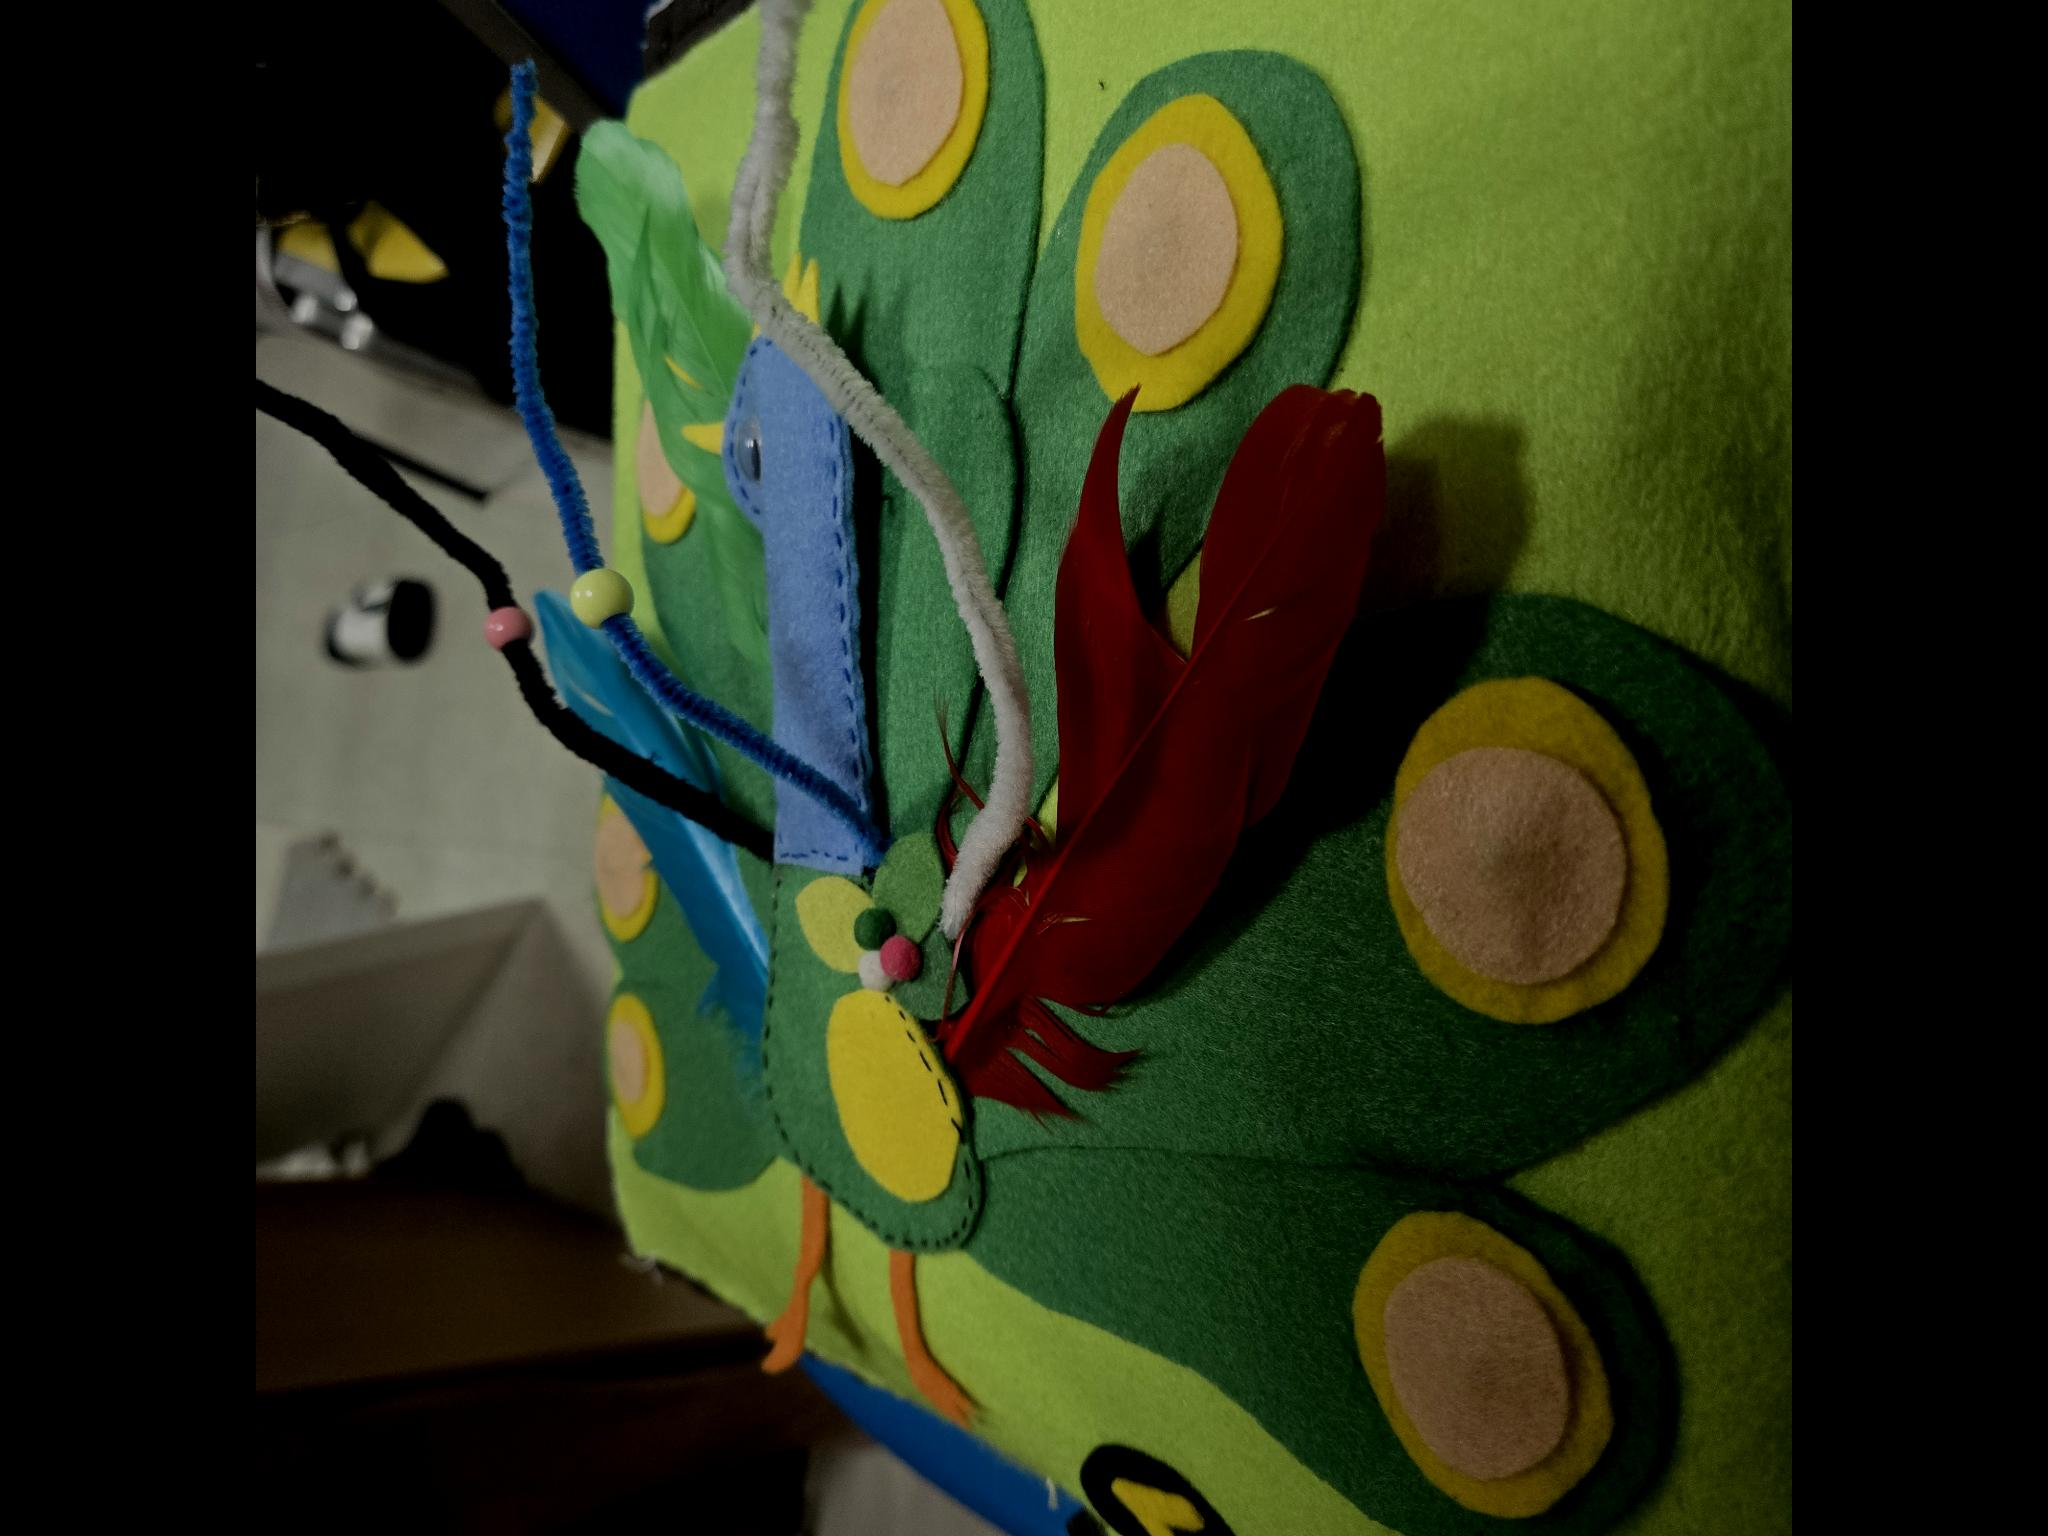bead: (558, 557, 643, 629), (472, 594, 540, 647)
